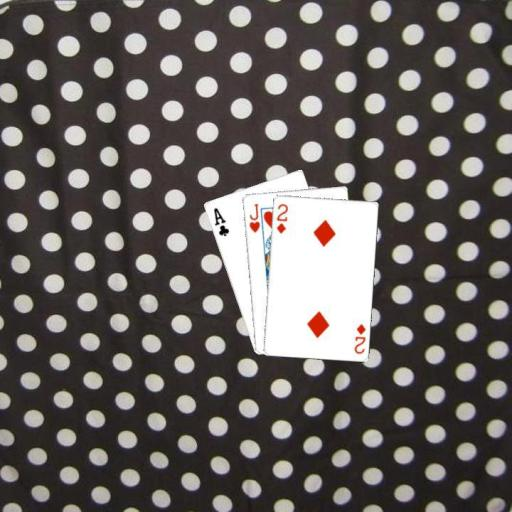2D: (273, 201, 289, 235), (351, 321, 367, 355)
AC: (211, 204, 231, 238)
JH: (246, 200, 261, 234)
